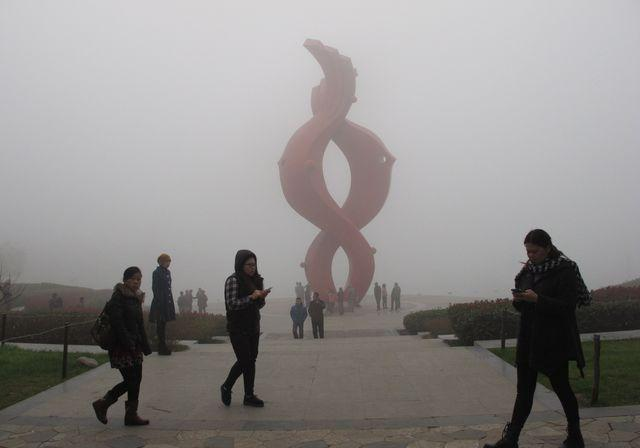person: (482, 226, 591, 448), (92, 263, 151, 428), (217, 249, 272, 410), (148, 250, 177, 358), (306, 291, 327, 340), (289, 297, 308, 342), (390, 280, 402, 311), (374, 281, 382, 313), (337, 287, 345, 317), (381, 283, 388, 310), (349, 283, 355, 314)
